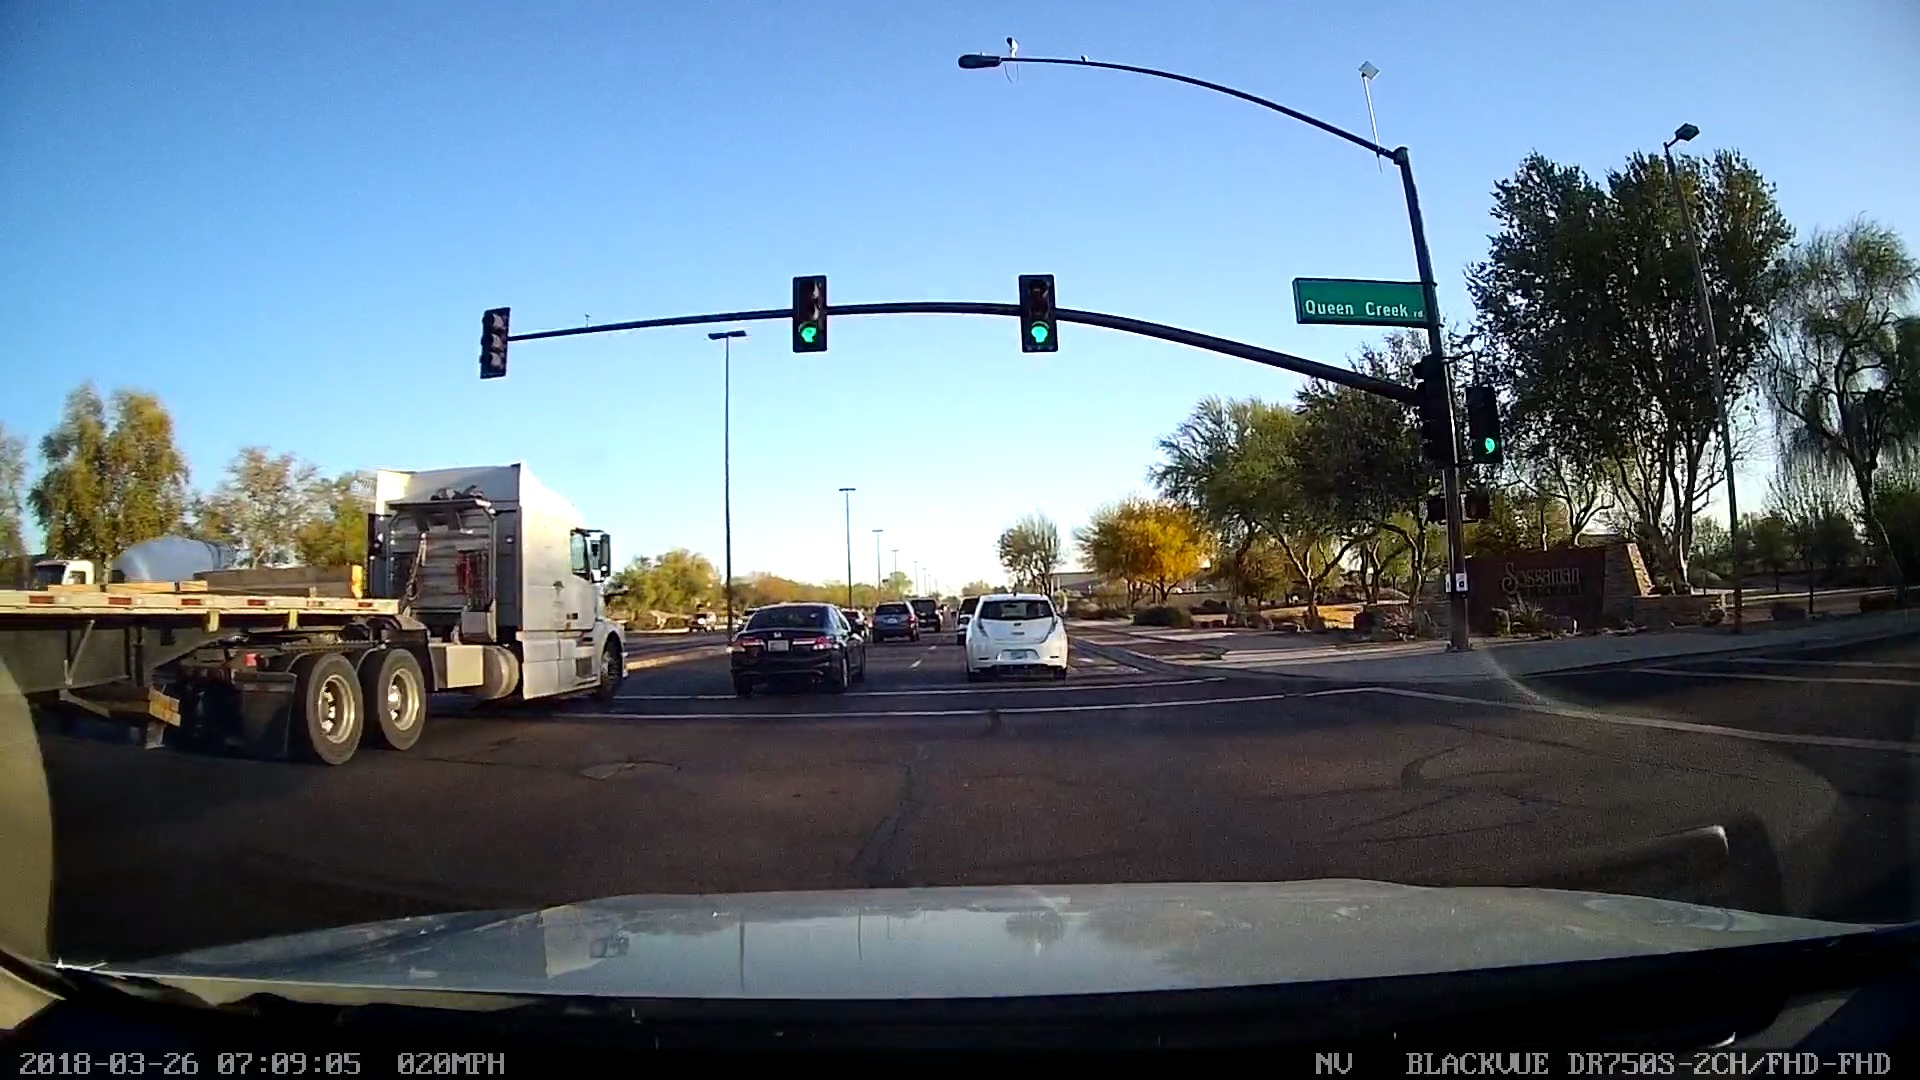vehicle: (103, 425, 636, 758), (708, 588, 898, 721), (936, 574, 1088, 699), (750, 630, 814, 662), (989, 640, 1040, 674)
